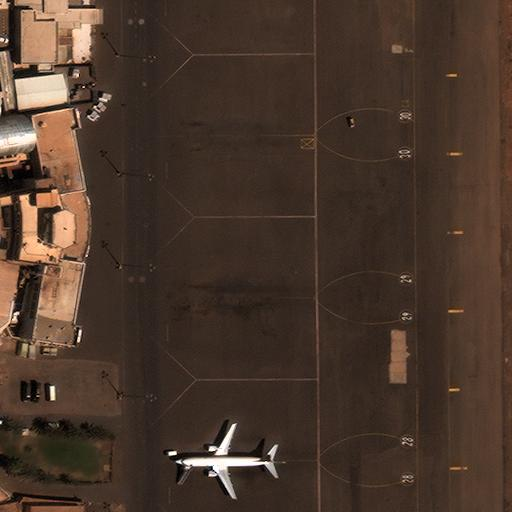Medium Civil Transport: (174, 424, 274, 498)
